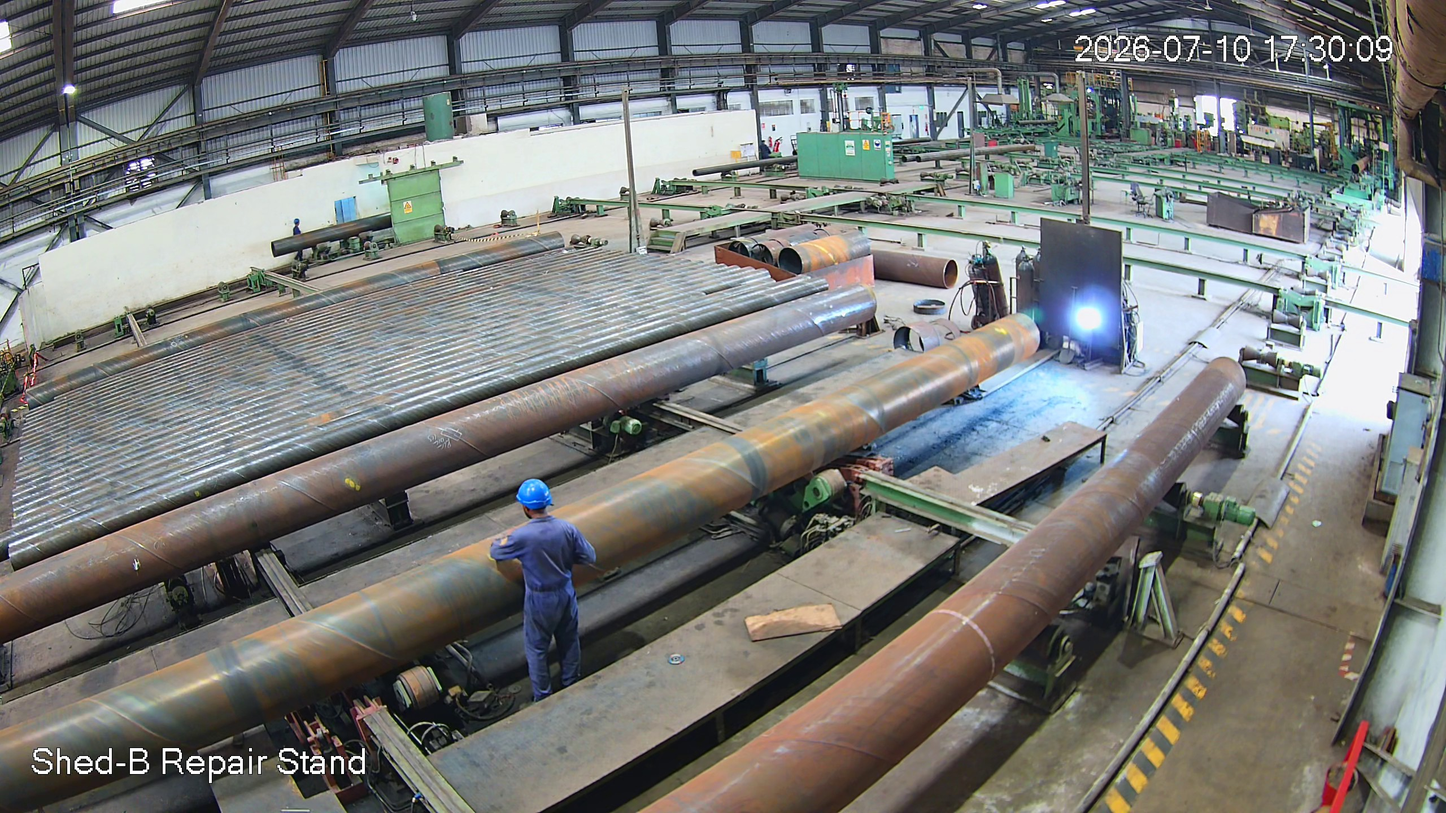Helmet: (513, 468, 565, 535)
Person: (502, 484, 590, 707)
